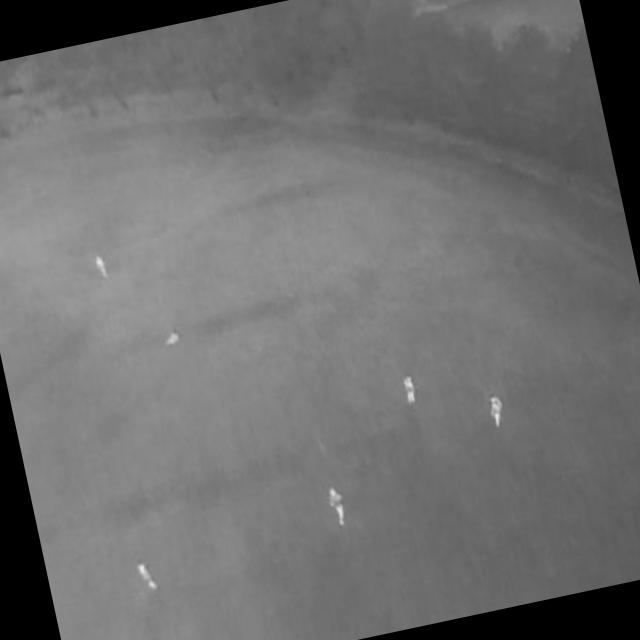person: (326, 487, 348, 529), (137, 561, 158, 594), (401, 373, 419, 407), (487, 393, 505, 427), (92, 253, 110, 283)
